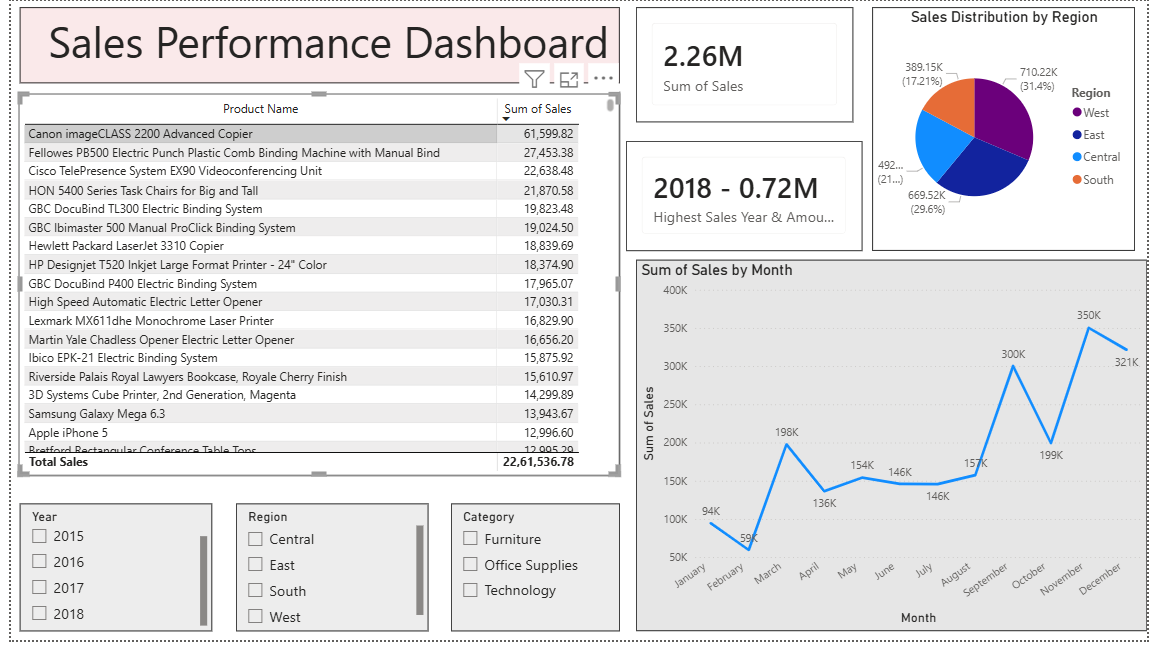

What the dashboard file says about the page in this screenshot:
{"tool":"powerbi","page":{"name":"Page 1","canvas":[1280,720],"ordinal":0},"visuals":[{"type":"textbox","box":[9.9,7,676.1,129.6],"z":0},{"type":"cardVisual","fields":{"Data":["Sum(cleaned_sales_data.Sales)"]},"box":[714.1,604.2,216.9,105.6],"z":1},{"type":"cardVisual","fields":{"Data":["cleaned_sales_data.Highest Sales Year & Amount"]},"box":[962,604.2,318.3,105.6],"z":2},{"type":"tableEx","title":"Sales by Product Name","fields":{"Values":["cleaned_sales_data.Product Name","Sum(cleaned_sales_data.Sales)"]},"box":[8.5,157.7,677.5,397.2],"z":3},{"type":"slicer","fields":{"Values":["cleaned_sales_data.Category"]},"box":[495.8,566.2,190.1,143.7],"z":4},{"type":"slicer","fields":{"Values":["cleaned_sales_data.Region"]},"box":[253.5,566.2,216.9,143.7],"z":5},{"type":"slicer","fields":{"Values":["cleaned_sales_data.Year"]},"box":[9.9,566.2,216.9,143.7],"z":6},{"type":"pieChart","fields":{"Category":["cleaned_sales_data.Region"],"Y":["Sum(cleaned_sales_data.Sales)"]},"box":[1033.8,7,246.5,157.7],"z":7},{"type":"kpi","fields":{"Indicator":["Sum(cleaned_sales_data.Sales)"],"TrendLine":["cleaned_sales_data.Order Date"]},"box":[704.2,0,316.9,154.9],"z":8},{"type":"lineChart","fields":{"Category":["cleaned_sales_data.Order Date"],"Y":["Sum(cleaned_sales_data.Sales)"]},"box":[704.2,167.6,553.5,418.3],"z":9}]}

Visuals, with their boxes in screenshot pixels (x1, y1, x2, y2), scaled from the page's 1280x720 canvas onto the 1156x662 screenshot:
textbox: bbox=[9, 6, 620, 126]
cardVisual - Sum(cleaned_sales_data.Sales): bbox=[645, 556, 841, 653]
cardVisual - cleaned_sales_data.Highest Sales Year & Amount: bbox=[869, 556, 1155, 653]
"Sales by Product Name" tableEx: bbox=[8, 145, 620, 510]
slicer - cleaned_sales_data.Category: bbox=[448, 521, 619, 653]
slicer - cleaned_sales_data.Region: bbox=[229, 521, 425, 653]
slicer - cleaned_sales_data.Year: bbox=[9, 521, 205, 653]
pieChart - cleaned_sales_data.Region x Sum(cleaned_sales_data.Sales): bbox=[934, 6, 1155, 151]
kpi - Sum(cleaned_sales_data.Sales) x cleaned_sales_data.Order Date: bbox=[636, 0, 922, 142]
lineChart - cleaned_sales_data.Order Date x Sum(cleaned_sales_data.Sales): bbox=[636, 154, 1136, 539]
